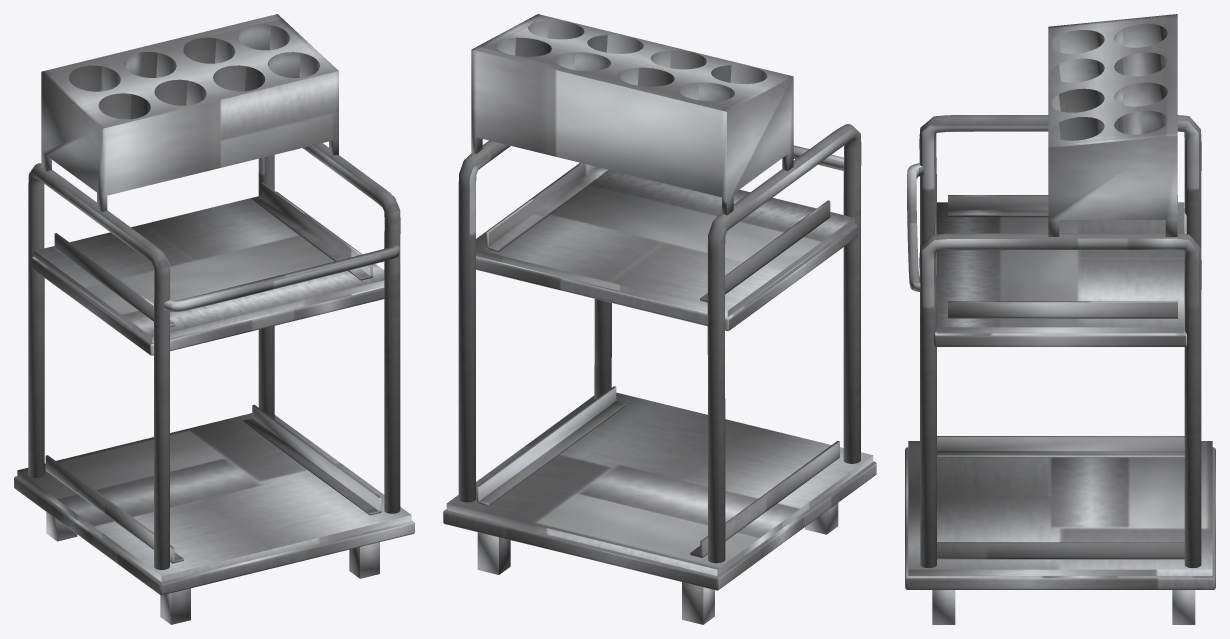
The model's file is tray cart.fbx.
3 renders of one model, left to right at view 1: azimuth 30°, elevation 25°; view 2: azimuth 150°, elevation 25°; view 3: azimuth 270°, elevation 25°, orthographic. The views are drawn at different scales.
Visible parts, largest first — view 1: tray_cart; view 2: tray_cart; view 3: tray_cart.
Boxes of the visible parts, x1,y1,x2,y2 form: tray_cart: (14,14,414,624); tray_cart: (443,14,876,624); tray_cart: (905,14,1215,624).
Size of the model in its own units: 83.99 by 148 by 83.99.
